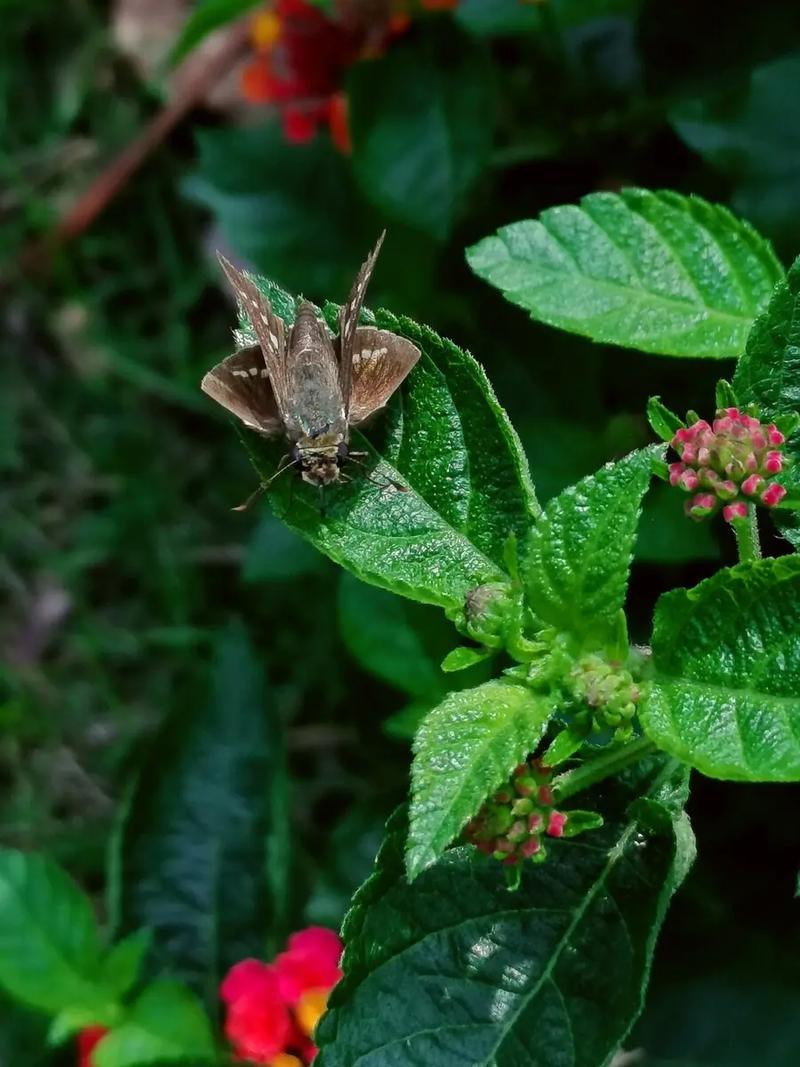Hesperiidae: (190, 227, 430, 514)
